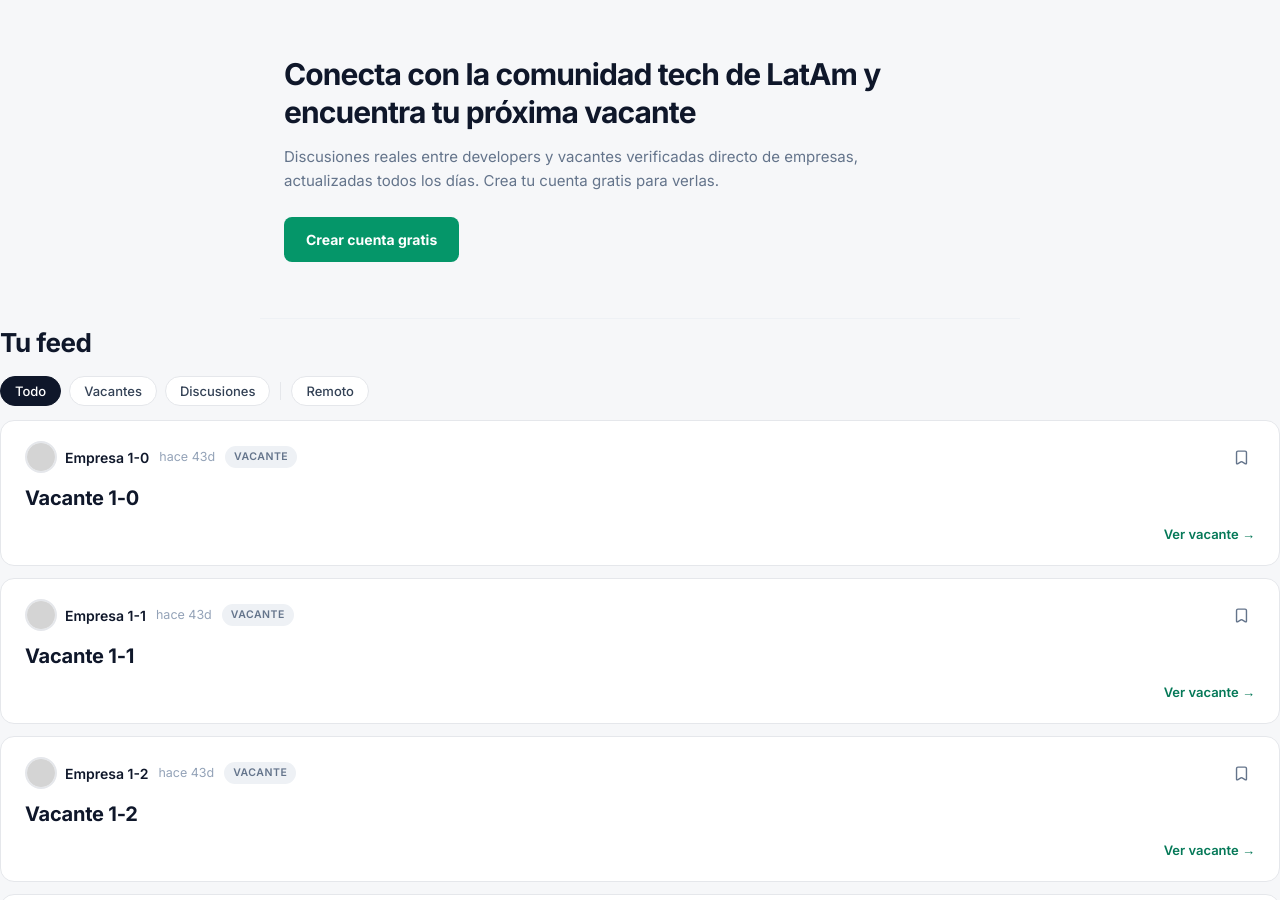
it: what each view shows while more vacancies can still arrive › with a vacancy filter on, the articles are hidden and the vacancies are not cut at 4
The width and height of the screenshot is (1280, 900).
Expected: the heading "Vacante 1-0" is shown, [25,486,139,510]
Click the button "Remoto": (330, 391) [292,376,369,406]
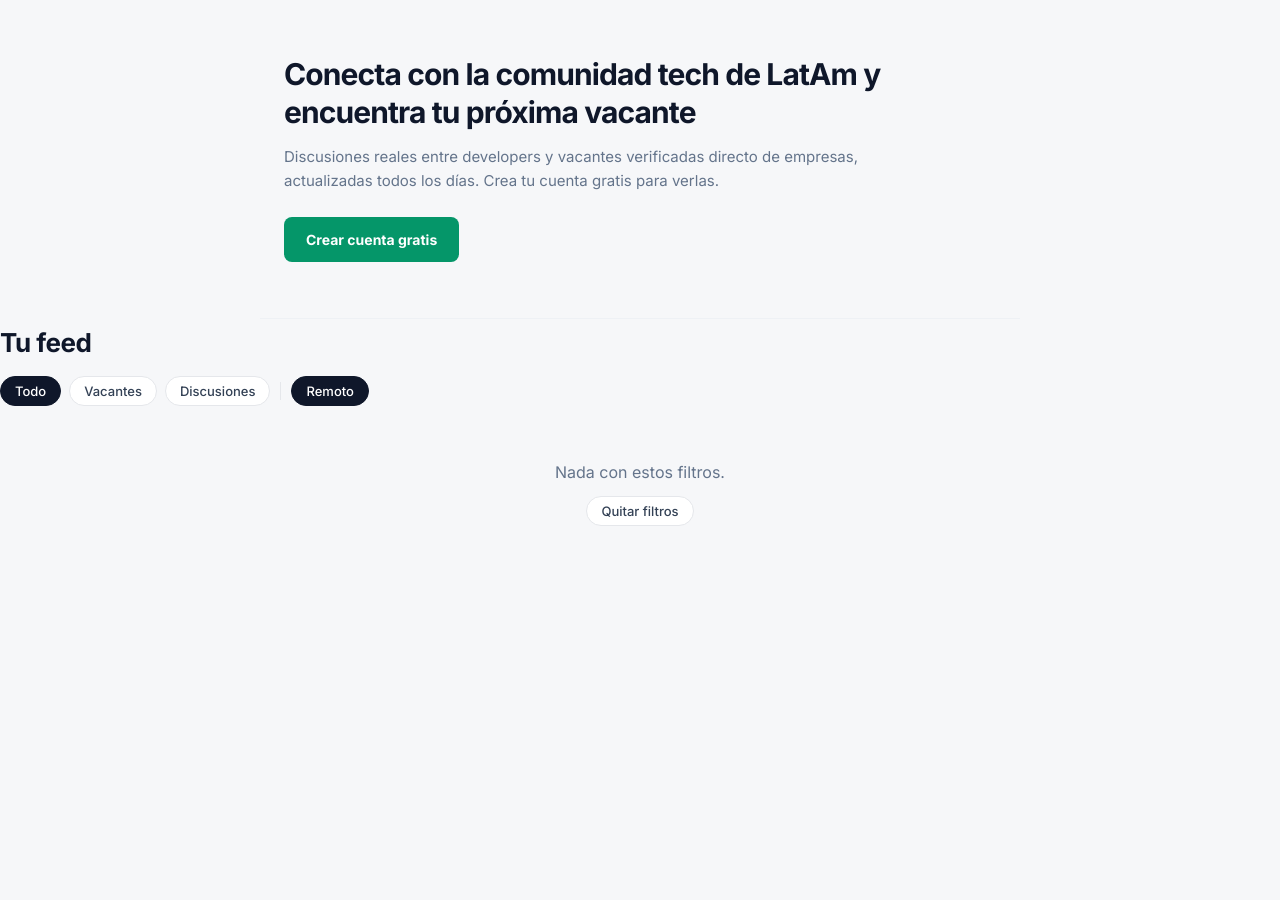
Result: the text "Nada con estos filtros." is shown at [555,460,725,484]
